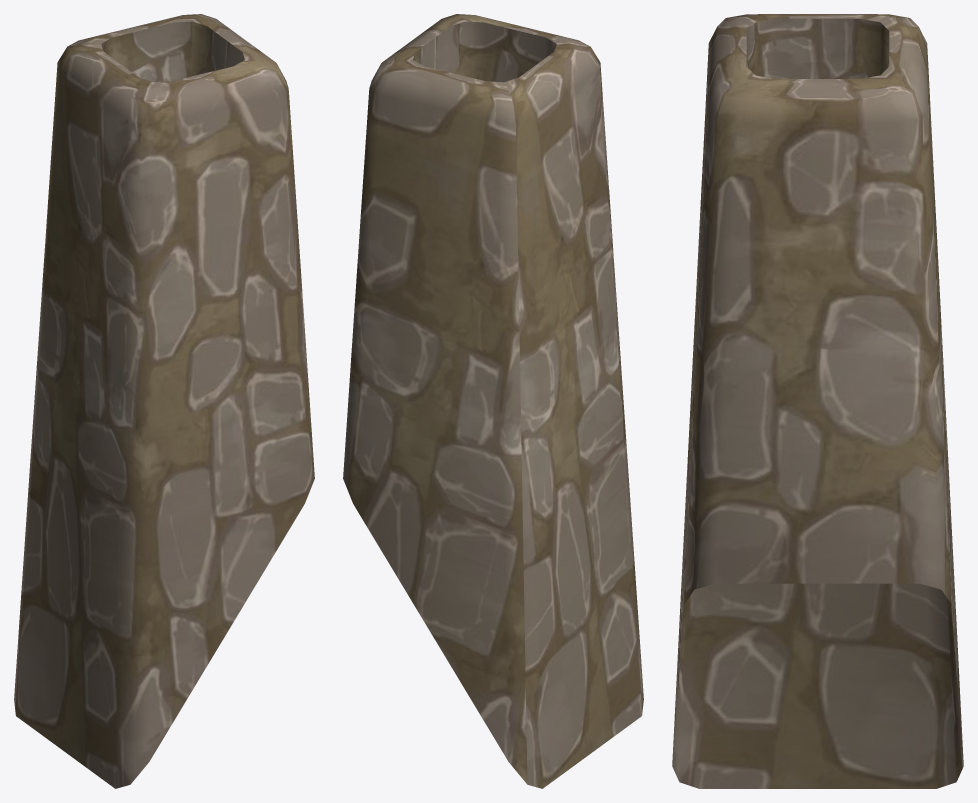
The model's file is chimney-qm-propchimney2.glb.
3 renders of one model, left to right at view 1: azimuth 30°, elevation 25°; view 2: azimuth 150°, elevation 25°; view 3: azimuth 270°, elevation 25°, orthographic. The views are drawn at different scales.
Visible parts, largest first — view 1: Cube_017_Retopology_005; view 2: Cube_017_Retopology_005; view 3: Cube_017_Retopology_005.
Part boxes in pixels (left/top/right/bottom): Cube_017_Retopology_005: left=14, top=14, right=314, bottom=788; Cube_017_Retopology_005: left=343, top=14, right=643, bottom=788; Cube_017_Retopology_005: left=672, top=14, right=963, bottom=788.
Bounding box in the file's own units: 0.9458 × 3 × 0.988.
Materials: 1 (1 with a texture image).
